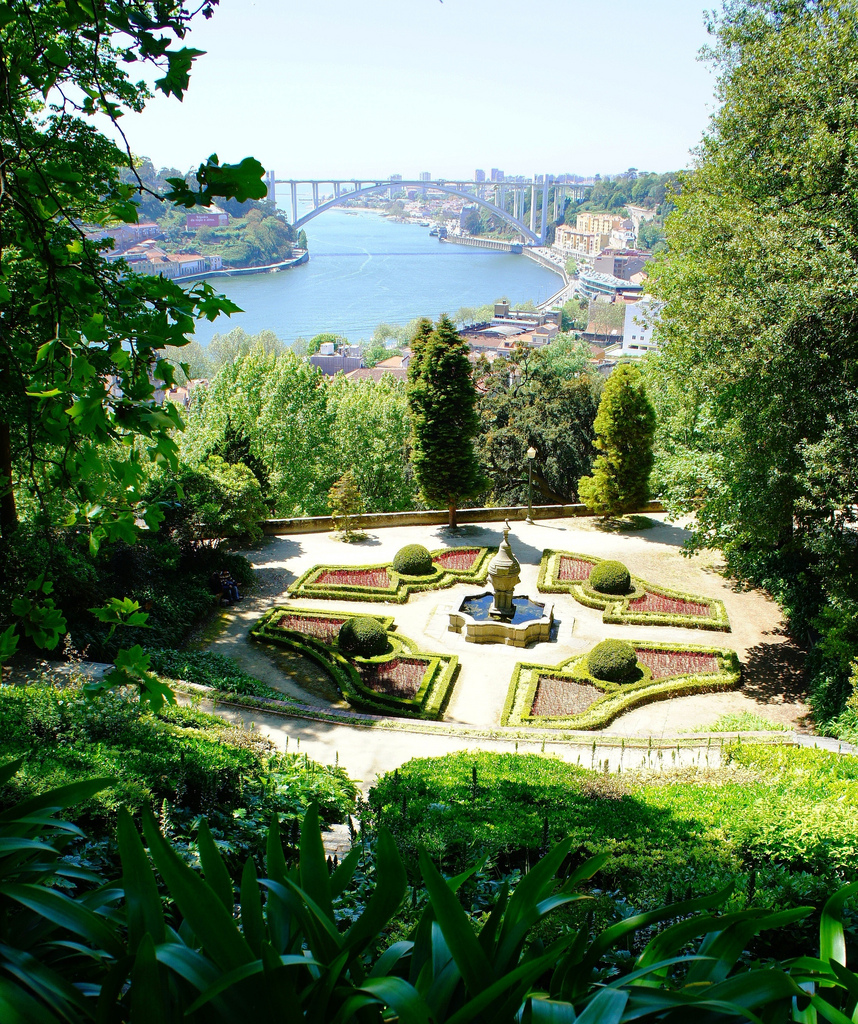arrabida: (264, 168, 582, 246)
